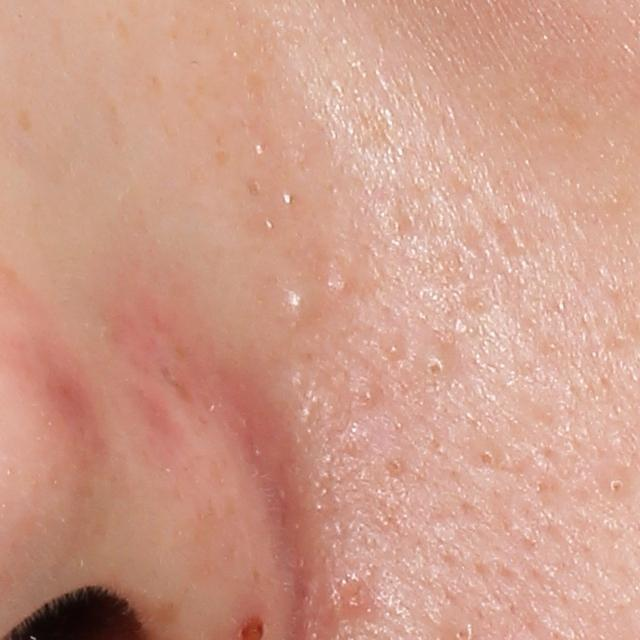comedo: (275, 280, 317, 329), (418, 349, 452, 382), (601, 470, 636, 501), (470, 444, 503, 473), (381, 331, 410, 362), (357, 380, 383, 407)
